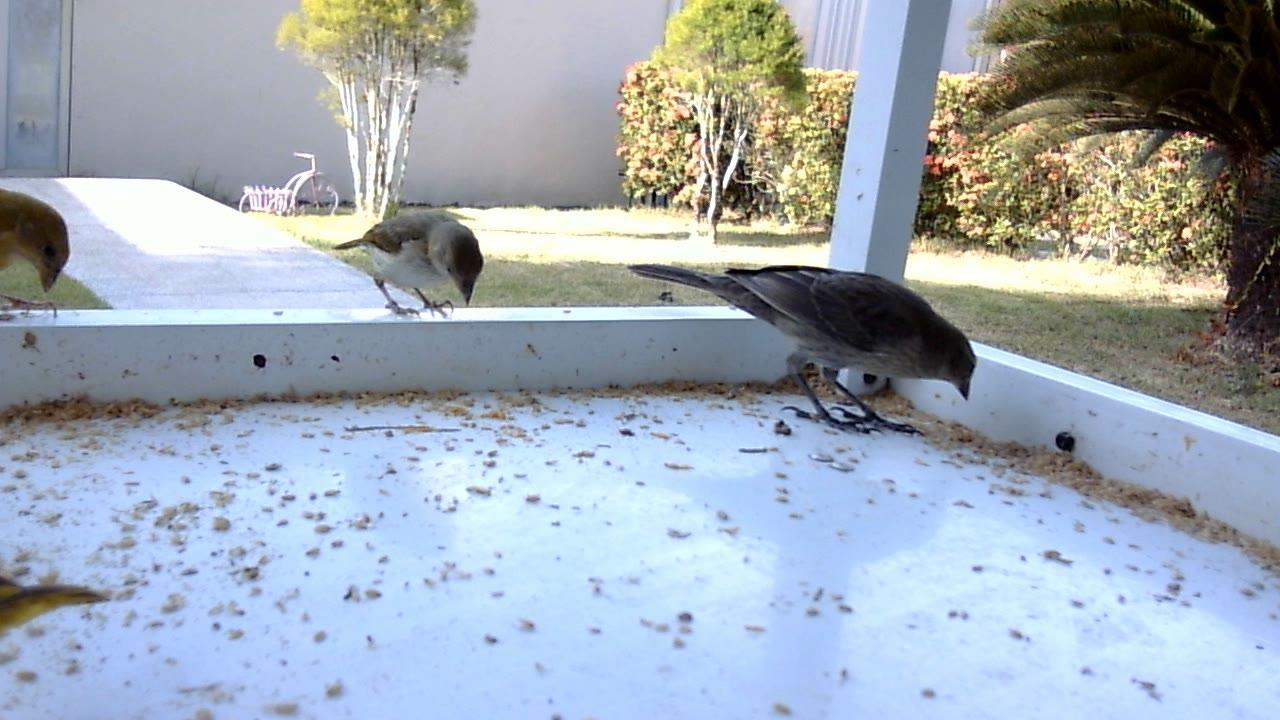canario_do_amazonas: (332, 208, 487, 322), (1, 184, 74, 319)
chupim: (626, 259, 980, 438)
